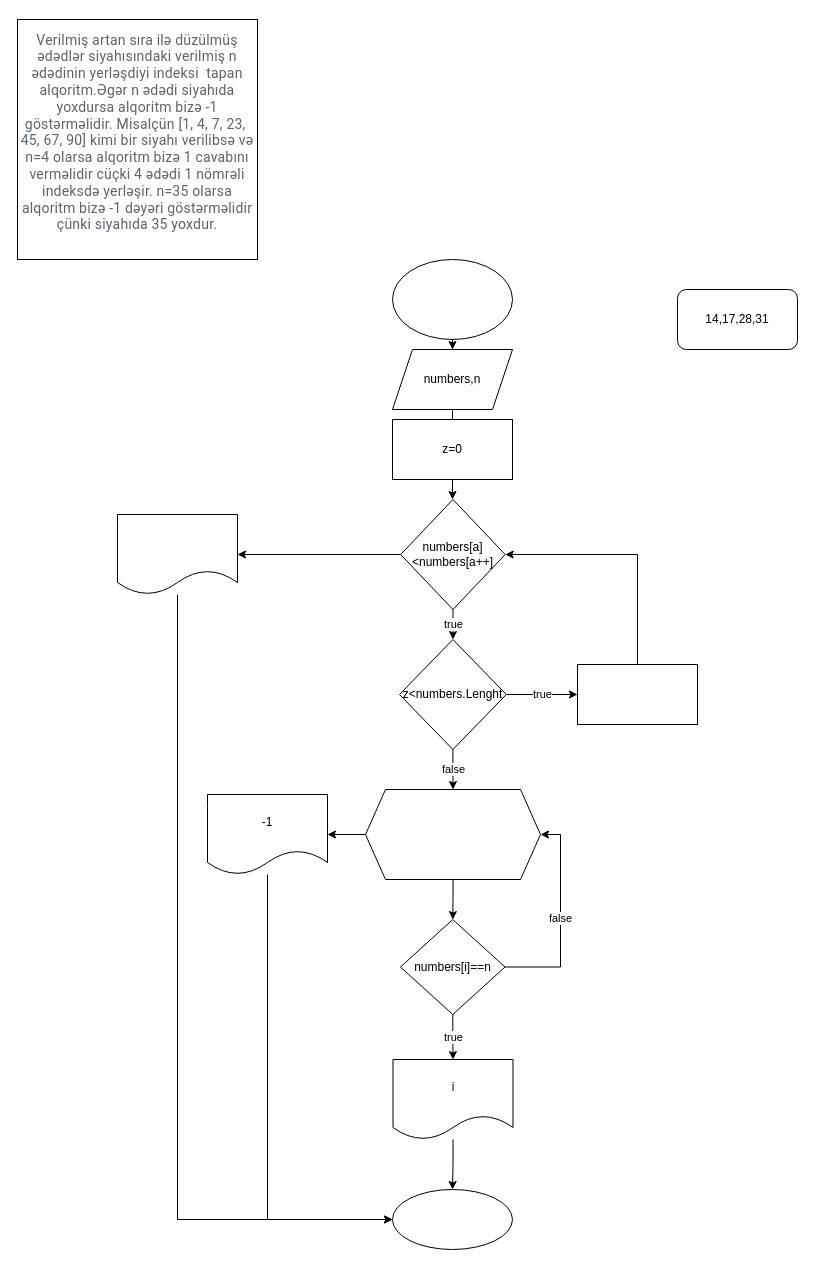
Some shapes in this 815 by 1267 pixel diagram are drawn without their labels. Here are the shapes that lost their labels. From the top down, the centre of each, then its label:
At point 452,299: "start".
At point 177,554: "ededler artan sirada deyil dostum".
At point 637,694: "z++".
At point 452,834: "i=0;i<numbers.Lenght;i++".
At point 452,1219: "end".
